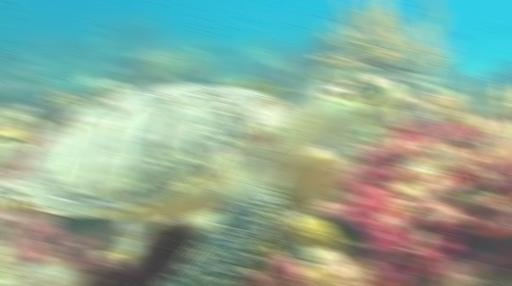Fish: (0, 73, 406, 285)
